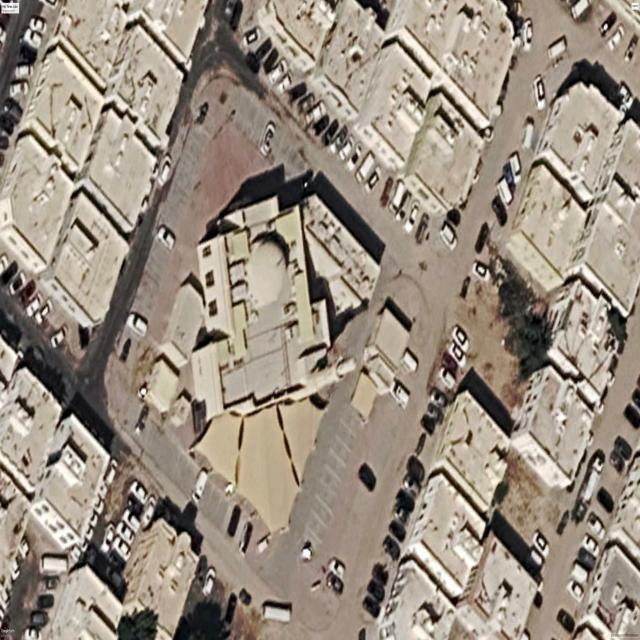Home: (192, 196, 355, 419)
